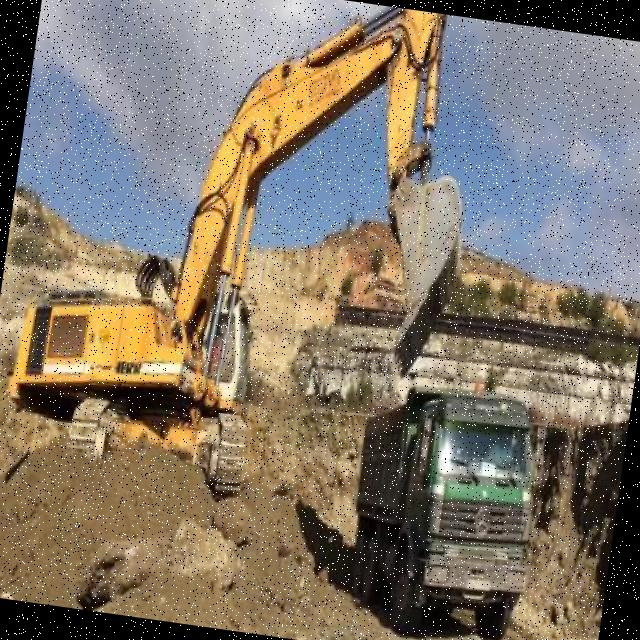Dump Truck: (334, 369, 553, 640)
Excavator: (0, 0, 498, 532)
